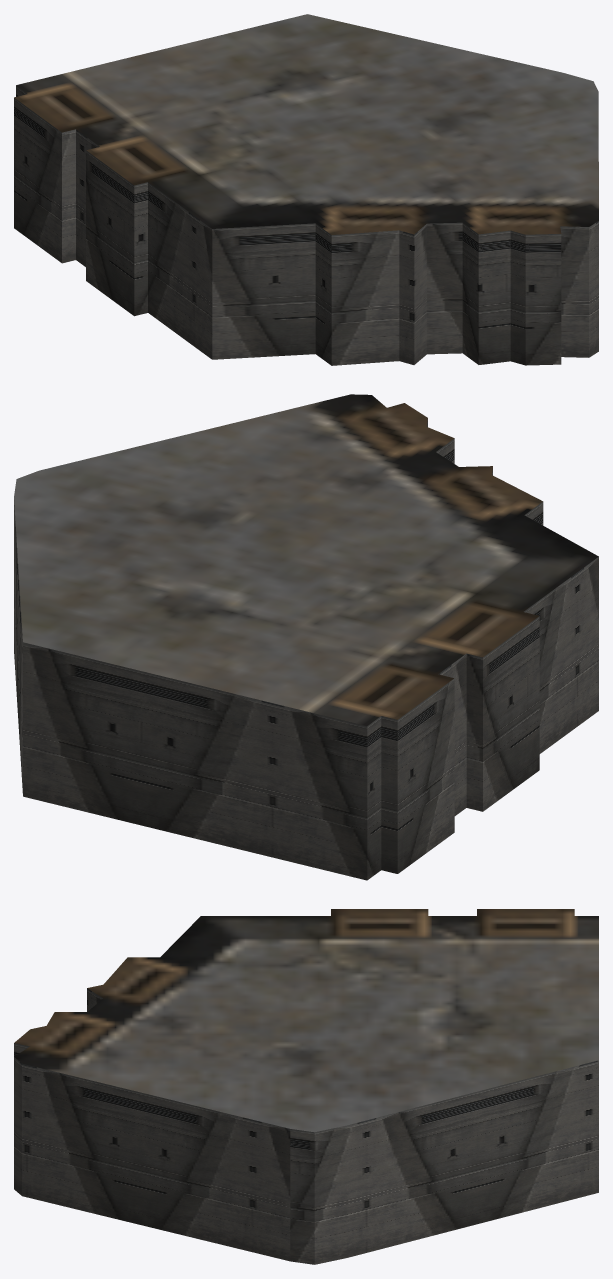
The model's file is fortress_light_a_07.glb.
3 renders of one model, top to bottom at view 1: azimuth 30°, elevation 25°; view 2: azimuth 150°, elevation 25°; view 3: azimuth 270°, elevation 25°, orthographic. The views are drawn at different scales.
Visible parts, largest first — view 1: buildings/saxarba/fortress_light/fortress_light_a_07; view 2: buildings/saxarba/fortress_light/fortress_light_a_07; view 3: buildings/saxarba/fortress_light/fortress_light_a_07.
Part boxes in pixels (x1,y1,x2,y2): buildings/saxarba/fortress_light/fortress_light_a_07: (14, 14, 598, 365); buildings/saxarba/fortress_light/fortress_light_a_07: (14, 394, 598, 880); buildings/saxarba/fortress_light/fortress_light_a_07: (14, 909, 598, 1264).
Bounding box in the file's own units: 65 × 18 × 72.
